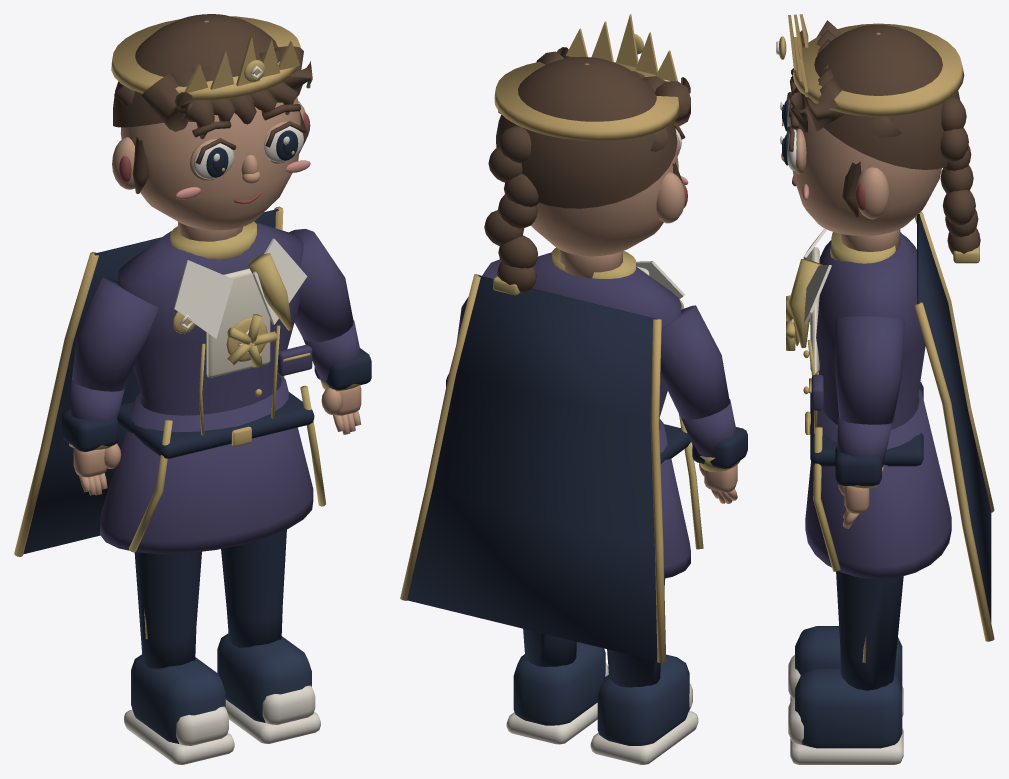
File: npc_bosshighland_boss.glb
3 views of the same model, side by side, from view 1: azimuth 30°, elevation 25°; view 2: azimuth 150°, elevation 25°; view 3: azimuth 270°, elevation 25° (orthographic). The views are drawn at different scales.
Parts seen in each view (by area): view 1: figure.107; view 2: figure.107; view 3: figure.107.
Part boxes in pixels (bbox=[...]): figure.107: bbox=[14, 14, 371, 764]; figure.107: bbox=[400, 14, 747, 764]; figure.107: bbox=[776, 14, 994, 764].
Bounding box in the file's own units: 0.7882 × 1.84 × 0.5069.
